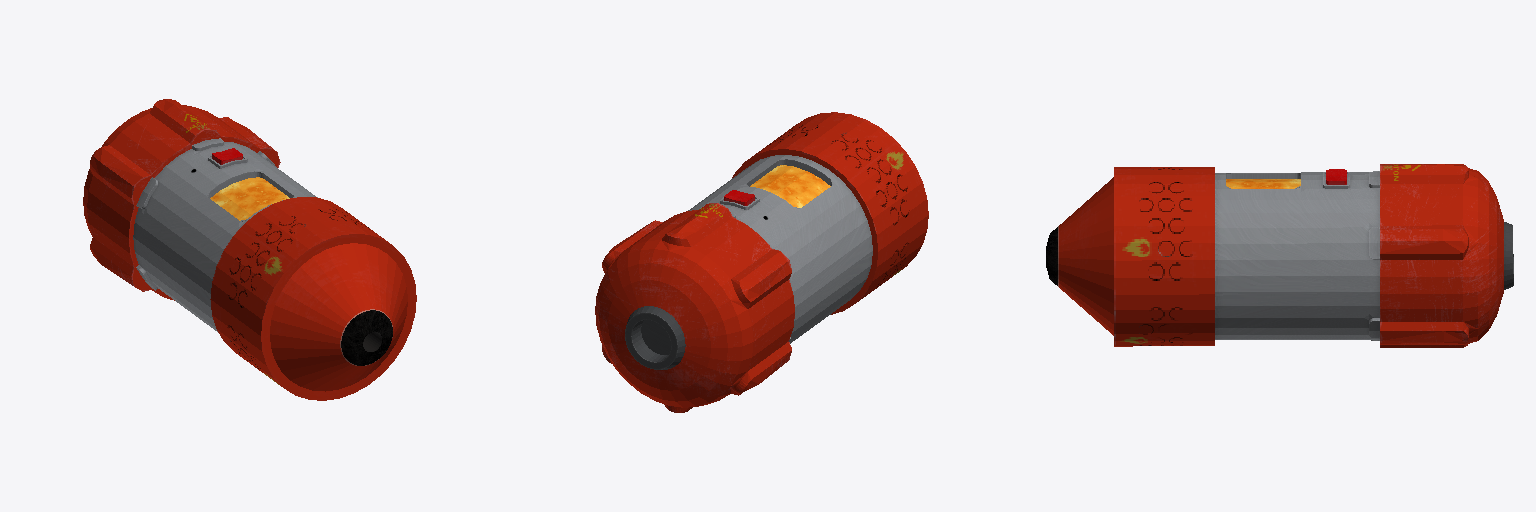
3 renders of one model, left to right at view 1: azimuth 30°, elevation 25°; view 2: azimuth 150°, elevation 25°; view 3: azimuth 270°, elevation 25°, orthographic.
Parts seen in each view (by area): view 1: ThermiteFBXASC032GrenadeFBXASC032LP; view 2: ThermiteFBXASC032GrenadeFBXASC032LP; view 3: ThermiteFBXASC032GrenadeFBXASC032LP.
Boxes of the visible parts, <box> form: ThermiteFBXASC032GrenadeFBXASC032LP: <box>83,99,416,400</box>; ThermiteFBXASC032GrenadeFBXASC032LP: <box>595,112,928,412</box>; ThermiteFBXASC032GrenadeFBXASC032LP: <box>1046,164,1513,347</box>.
Size of the model in its own units: 0.0884 by 0.0994 by 0.2295.
1 materials, 1 textured.